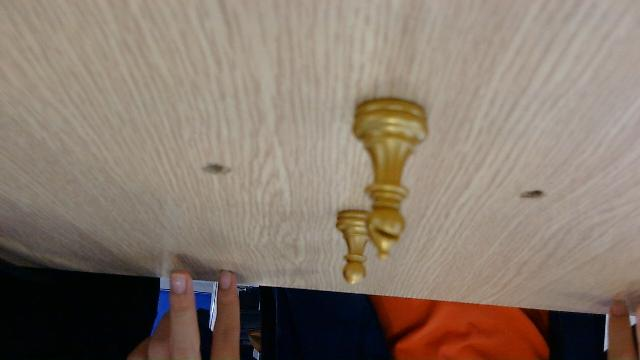black_bishop: (355, 100, 429, 263)
black_pawn: (335, 209, 370, 285)
